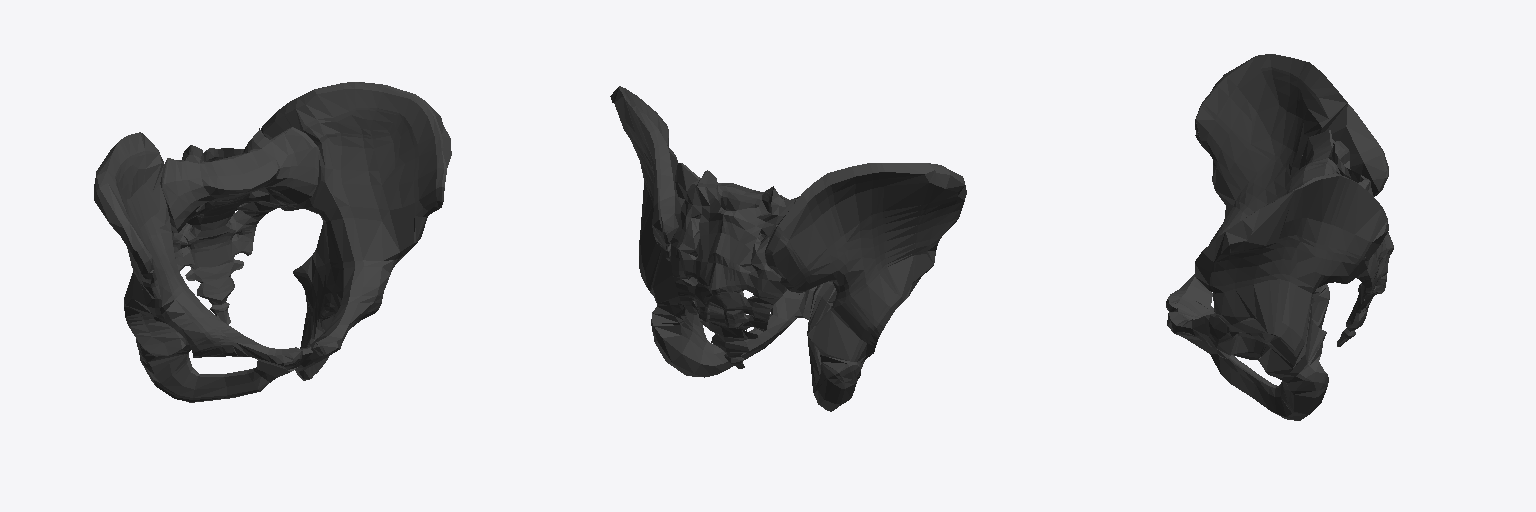
Rendered from Pelvis.obj.
3 renders of one model, left to right at view 1: azimuth 30°, elevation 25°; view 2: azimuth 150°, elevation 25°; view 3: azimuth 270°, elevation 25°, orthographic.
Bounding box in the file's own units: 28.85 × 21.49 × 16.64.